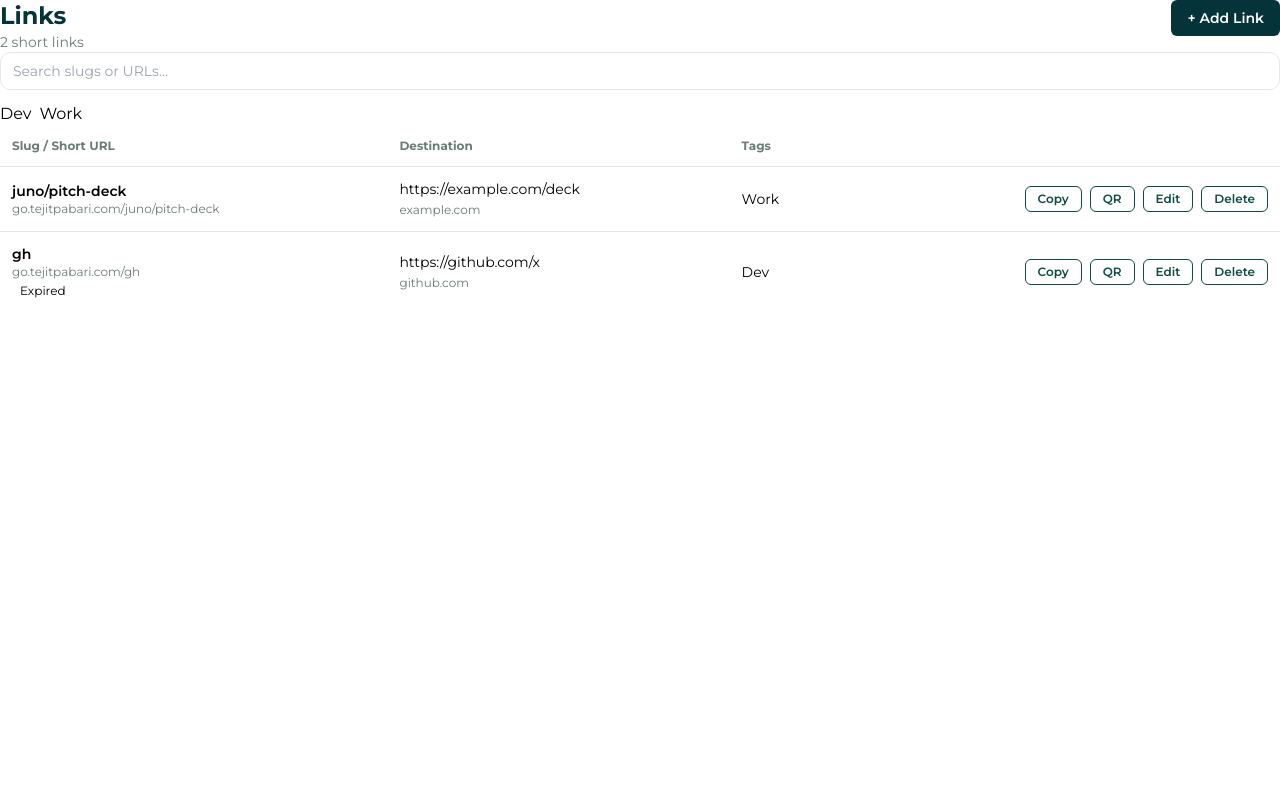
Test: Links page › surfaces saveLink errors (collision) and keeps the modal open
Check: the row with test id "row-gh" is shown, box x1=0 y1=232 x2=1279 y2=312
Step 1. Click the button "+ Add Link" → [1226, 18], box x1=1171 y1=0 x2=1279 y2=36
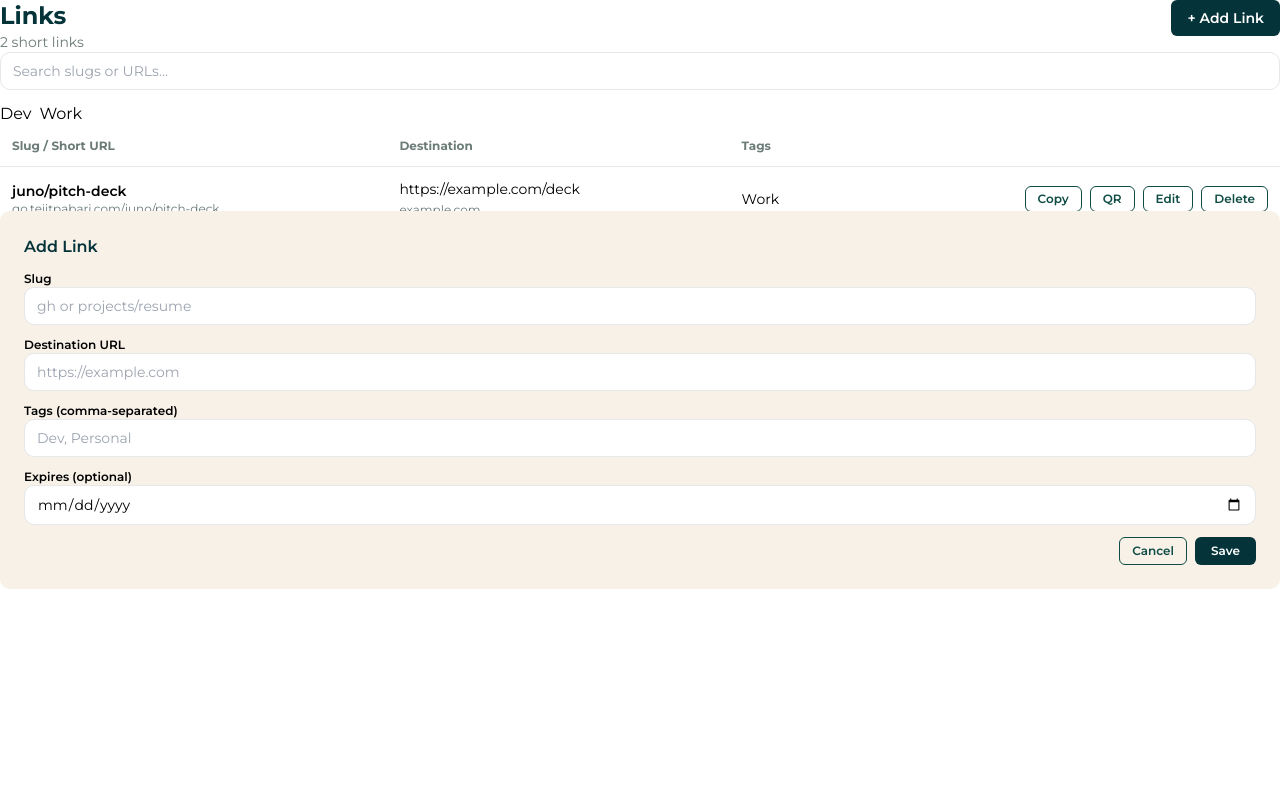
Step 2. Type "gh" into the field labelled "Slug" → [640, 306], box x1=24 y1=287 x2=1256 y2=325
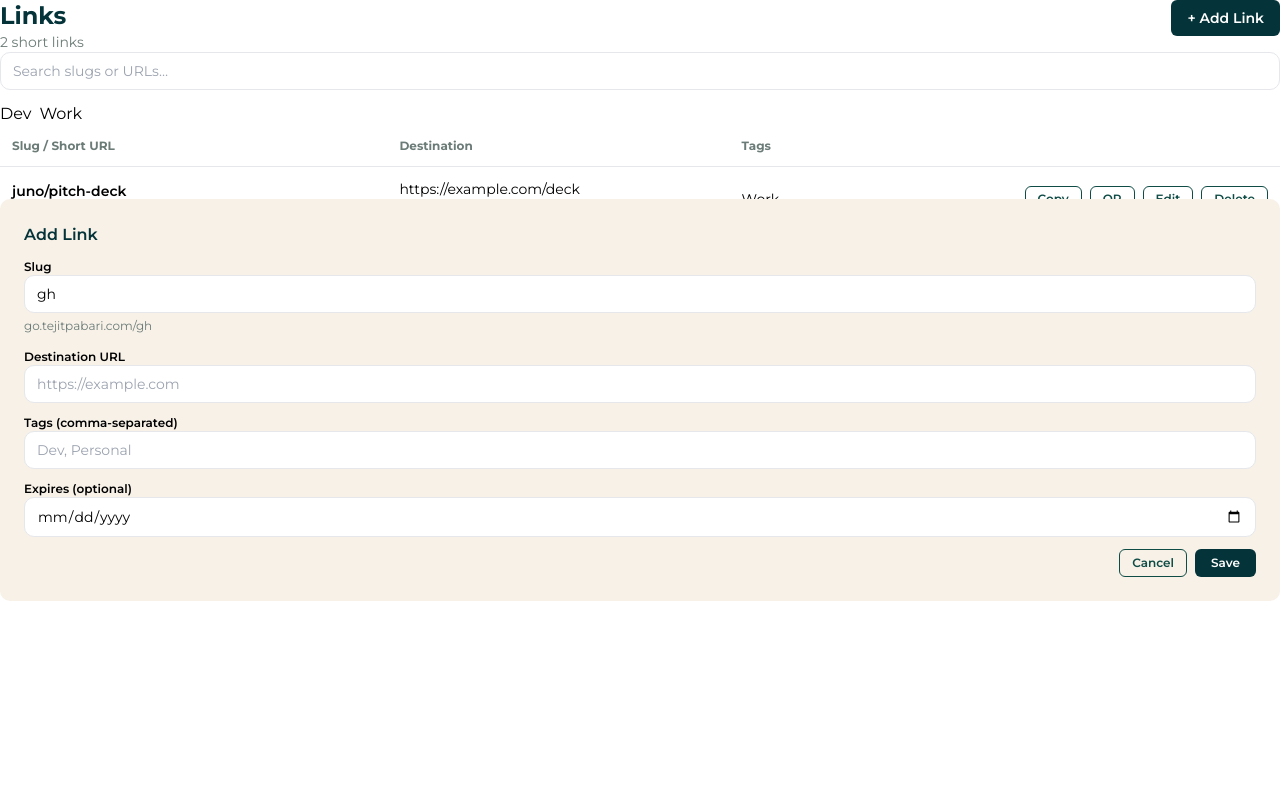
Step 3. Type "https://x.com" into the field labelled "Destination URL" → [640, 384], box x1=24 y1=365 x2=1256 y2=403
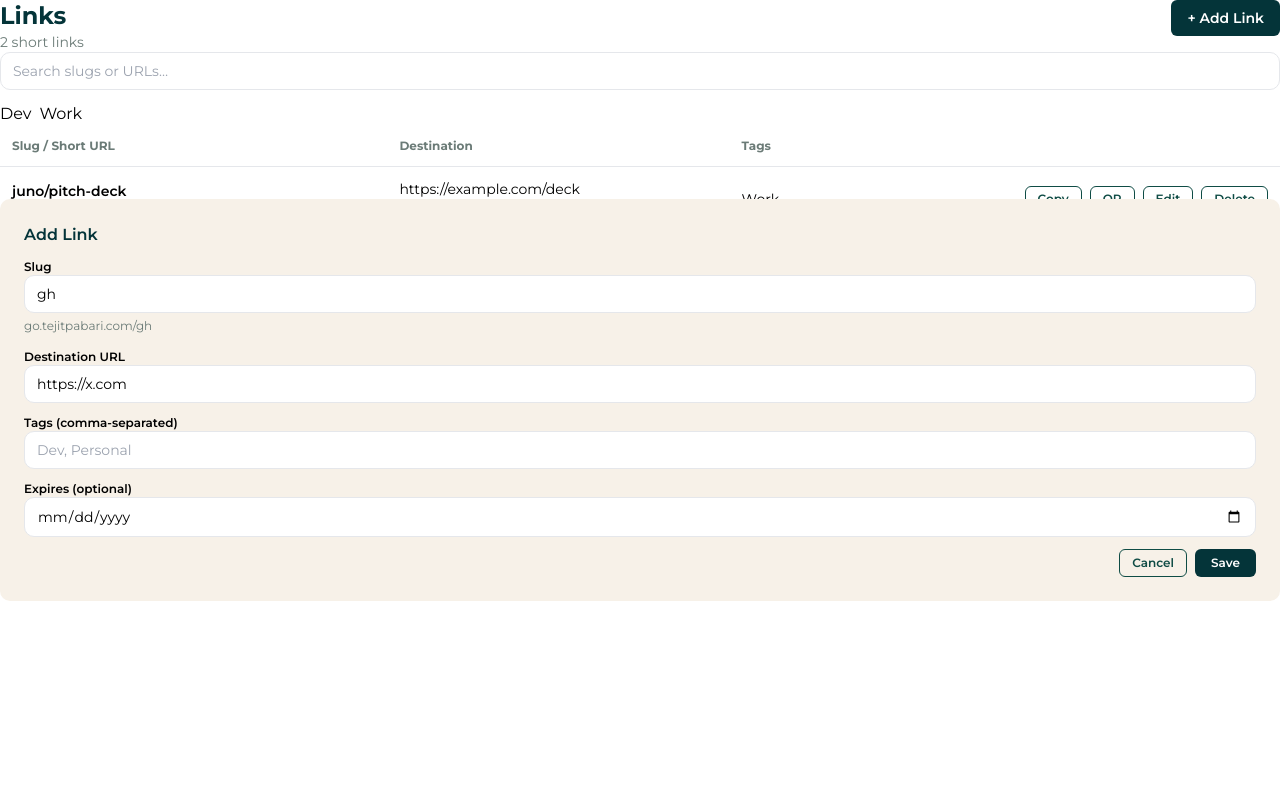
Step 4. Click the button "Save" → [1226, 563], box x1=1195 y1=549 x2=1256 y2=577
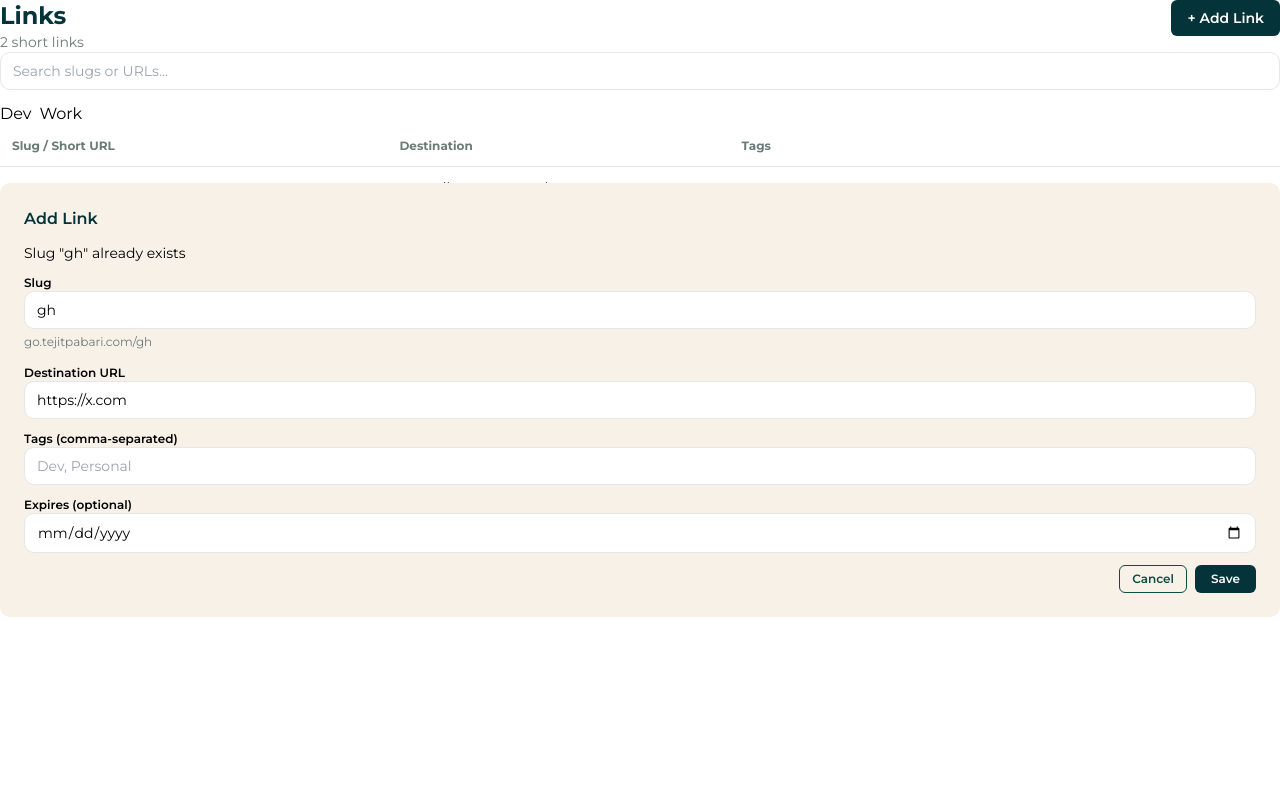
Check: the dialog is shown, box x1=0 y1=183 x2=1279 y2=617
Check: the message reads "Slug \"gh\" already exists", box x1=24 y1=244 x2=186 y2=262
